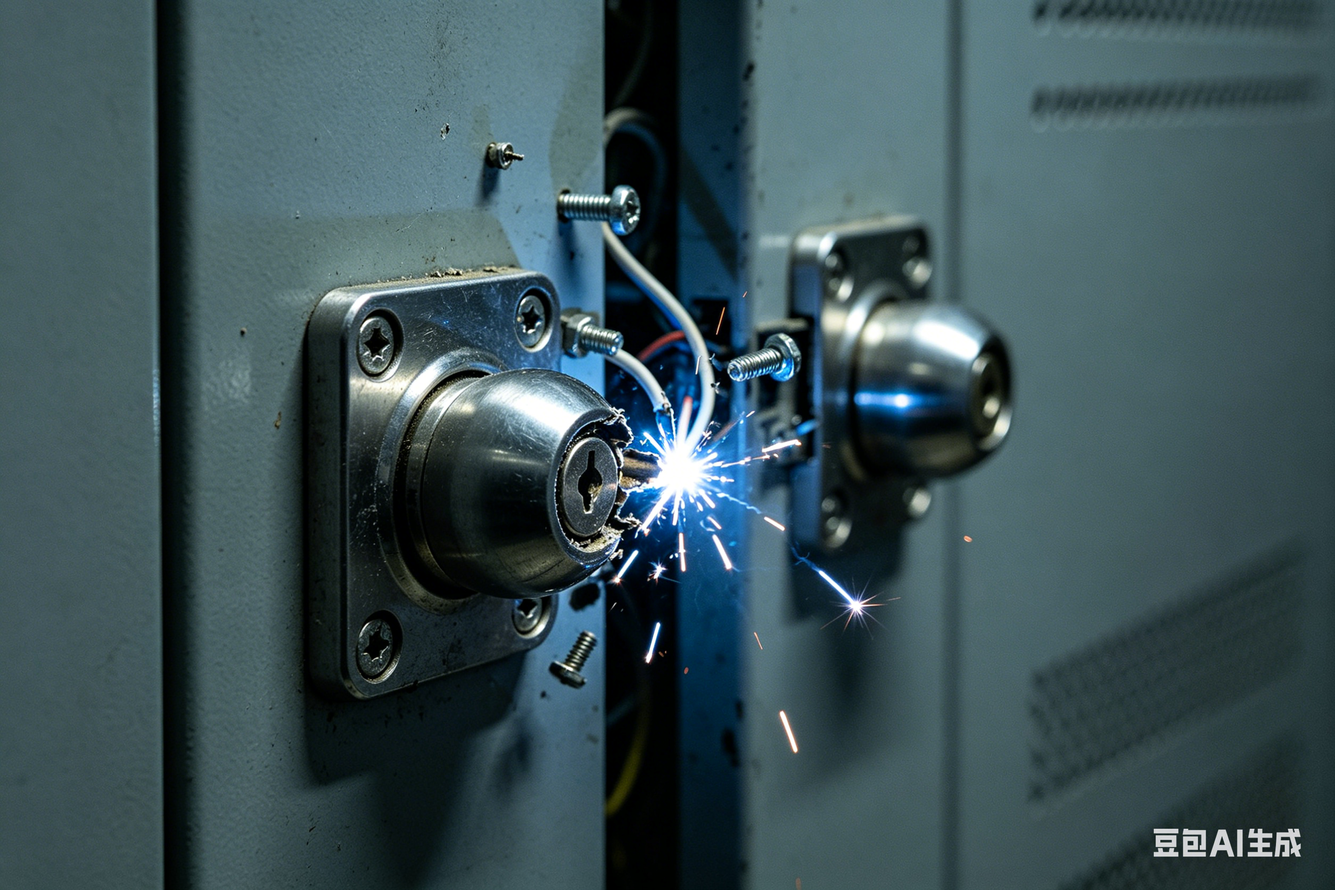BadLock: (491, 353, 745, 574)
